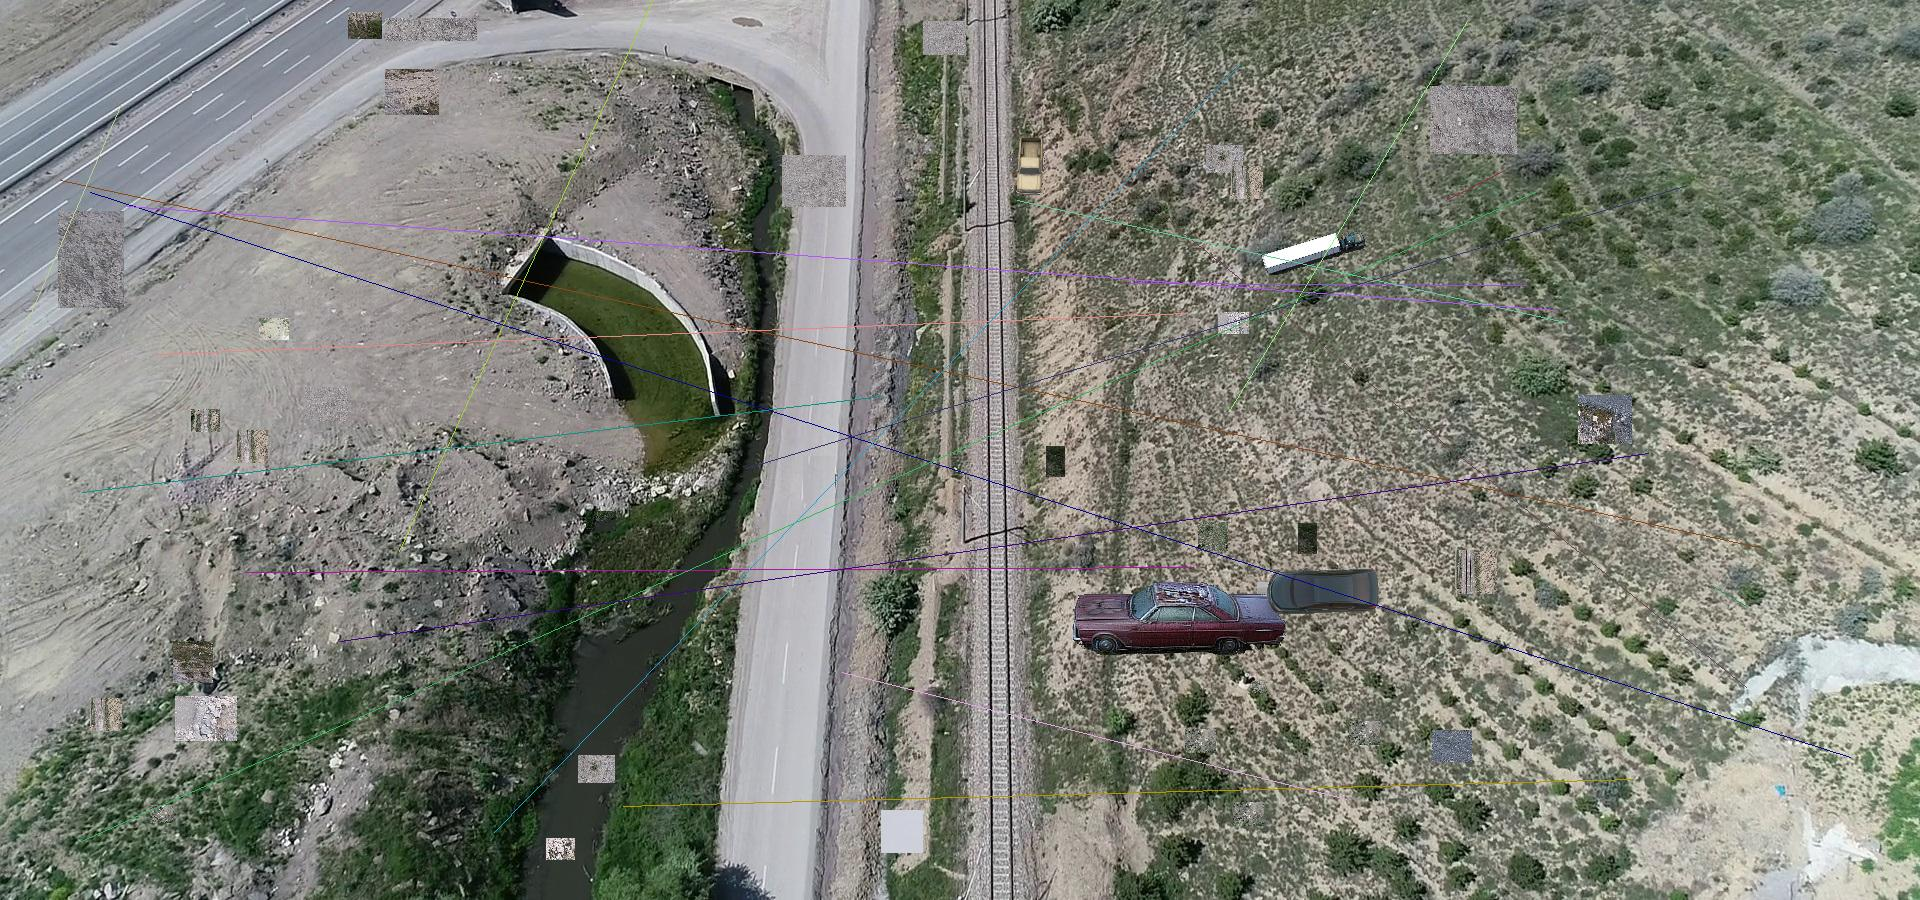arac: (1069, 580, 1289, 662), (1266, 567, 1382, 620), (1259, 228, 1367, 276), (1011, 133, 1044, 195)
